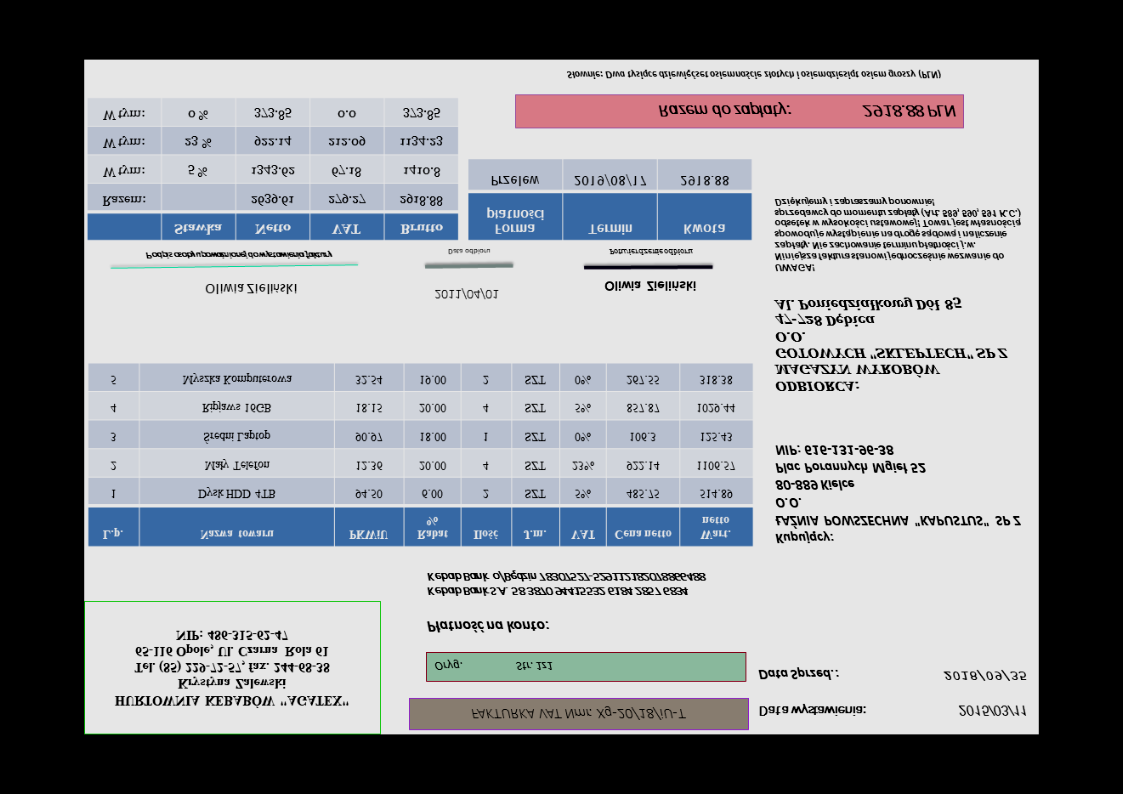Table: (86, 362, 755, 547), (86, 97, 459, 241), (467, 157, 752, 242)
TextBox: (772, 441, 1023, 547), (772, 294, 1010, 394), (111, 624, 352, 714), (773, 196, 1024, 276), (424, 570, 708, 600), (564, 66, 944, 85), (655, 101, 957, 122), (466, 706, 688, 723), (143, 247, 335, 263), (757, 700, 868, 721), (423, 617, 551, 635), (431, 658, 556, 675), (202, 281, 301, 298), (940, 666, 1029, 684), (601, 279, 698, 294), (757, 666, 841, 683), (956, 703, 1029, 719), (433, 286, 500, 302), (606, 247, 695, 258), (445, 247, 491, 257)
